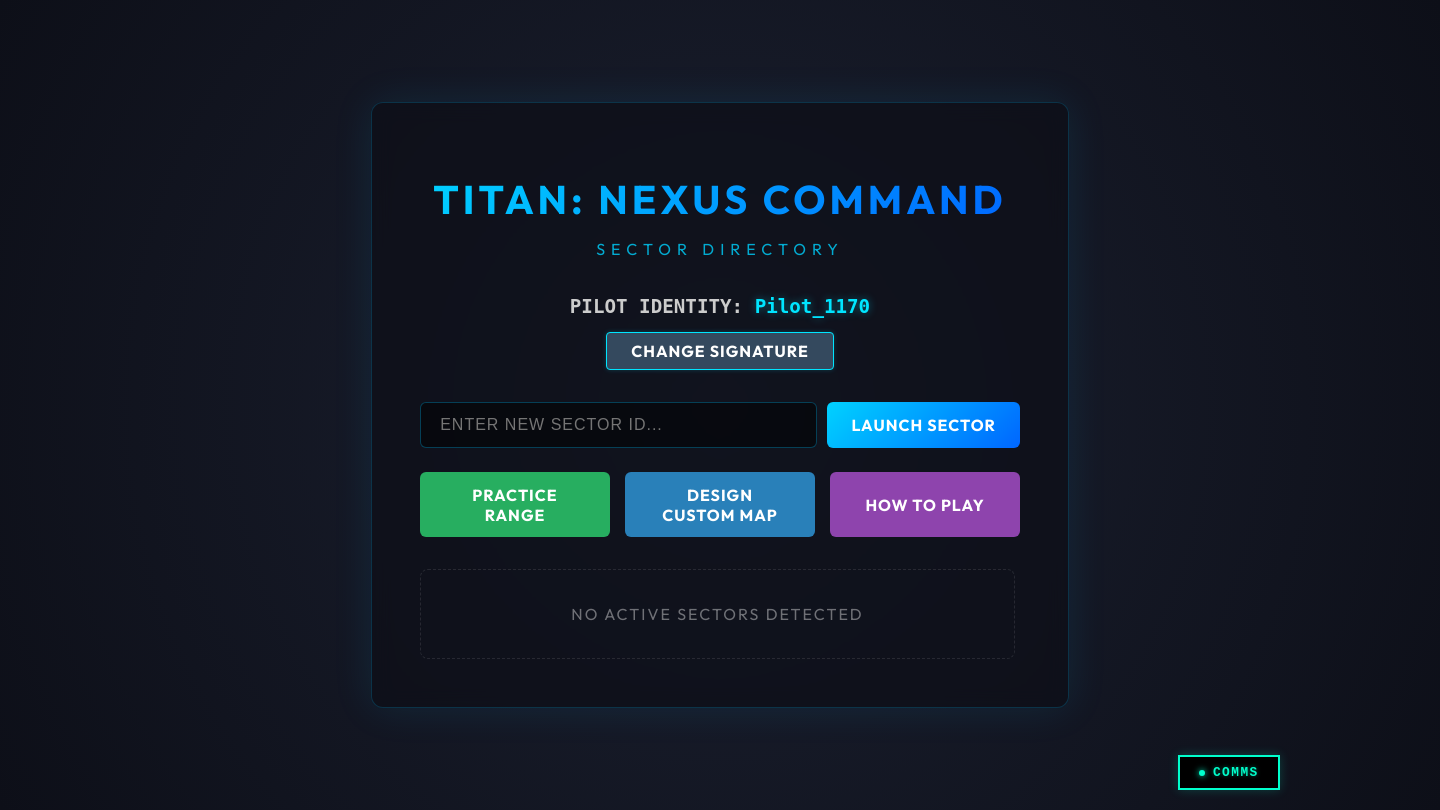
it: App Practice Range Sandbox Integration › enters practice range and displays the sandbox interface
Click the button "PRACTICE RANGE".
click(515, 505)  # box [420,472,610,537]
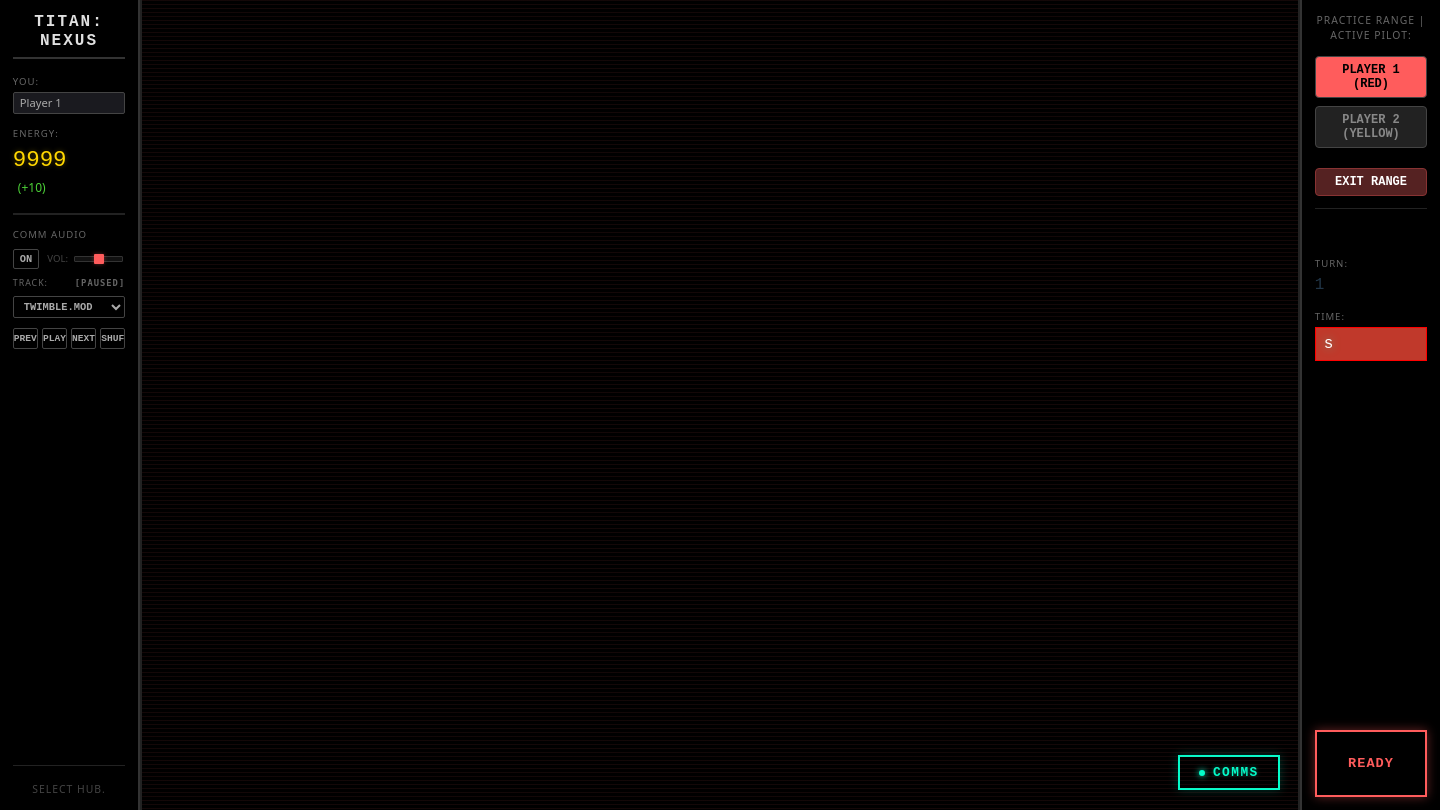
Expected: the text "PRACTICE RANGE | ACTIVE PILOT:" is shown, [1315,13,1427,44]
